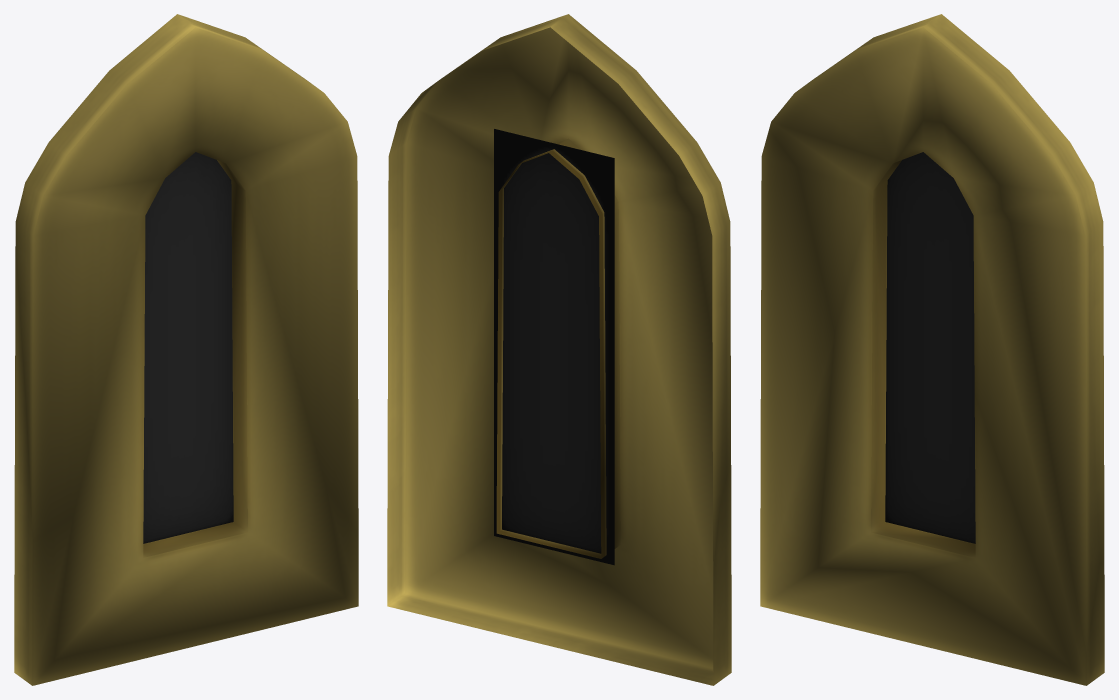
File: loophole_chuchoteur_01.fbx
The picture shows the model from 3 angles, left to right: view 1: azimuth 30°, elevation 25°; view 2: azimuth 150°, elevation 25°; view 3: azimuth 330°, elevation 25°; orthographic projection.
Parts seen in each view (by area): view 1: loophole_chuchoteur_01; view 2: loophole_chuchoteur_01; view 3: loophole_chuchoteur_01.
Boxes of the visible parts, left/top/right/bottom form: loophole_chuchoteur_01: left=14, top=14, right=358, bottom=685; loophole_chuchoteur_01: left=387, top=14, right=731, bottom=685; loophole_chuchoteur_01: left=760, top=14, right=1104, bottom=685.
Bounding box in the file's own units: 45.42 × 82.3 × 4.76.
Materials: 1 (1 with a texture image).
